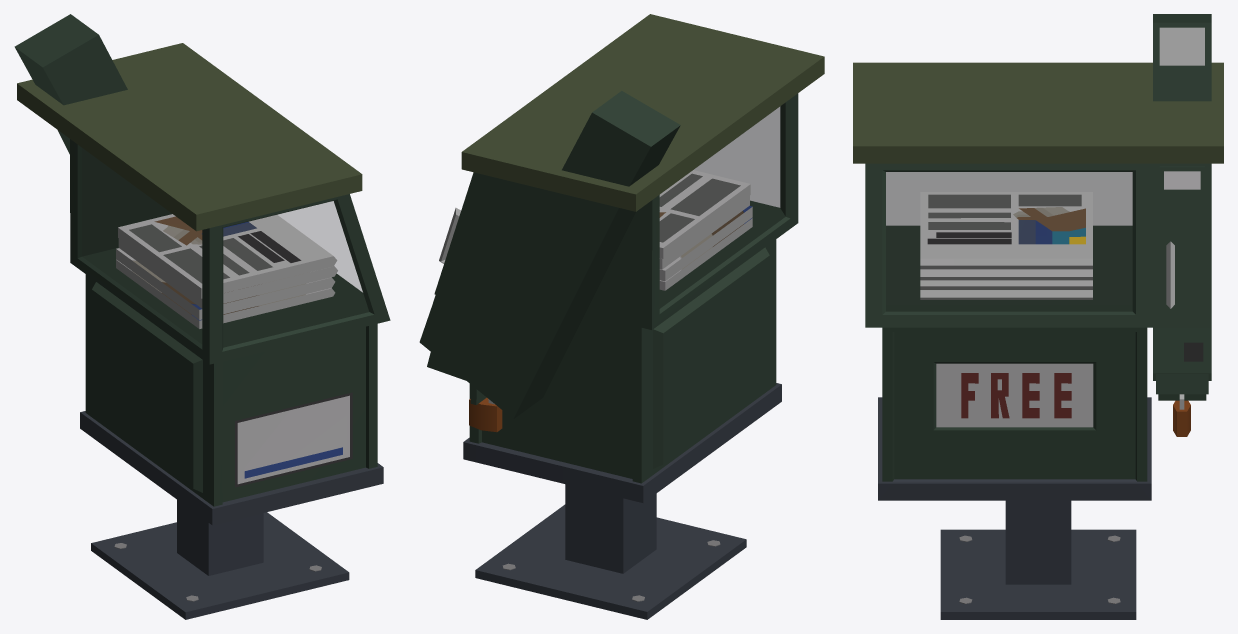
File: SM_press_box_1.gltf
3 views of the same model, side by side, from view 1: azimuth 30°, elevation 25°; view 2: azimuth 150°, elevation 25°; view 3: azimuth 270°, elevation 25° (orthographic). The views are drawn at different scales.
Visible parts, largest first — view 1: SM_press_box_1; view 2: SM_press_box_1; view 3: SM_press_box_1.
Boxes of the visible parts, x1,y1,x2,y2 form: SM_press_box_1: [14, 14, 390, 619]; SM_press_box_1: [419, 14, 824, 619]; SM_press_box_1: [853, 14, 1223, 619].
Bounding box in the file's own units: 0.7171 × 1.56 × 1.
Materials: 2 (1 with a texture image).
